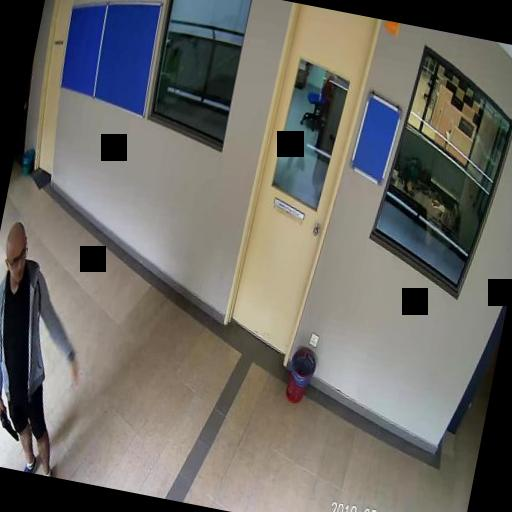Handgun: (0, 401, 23, 438)
